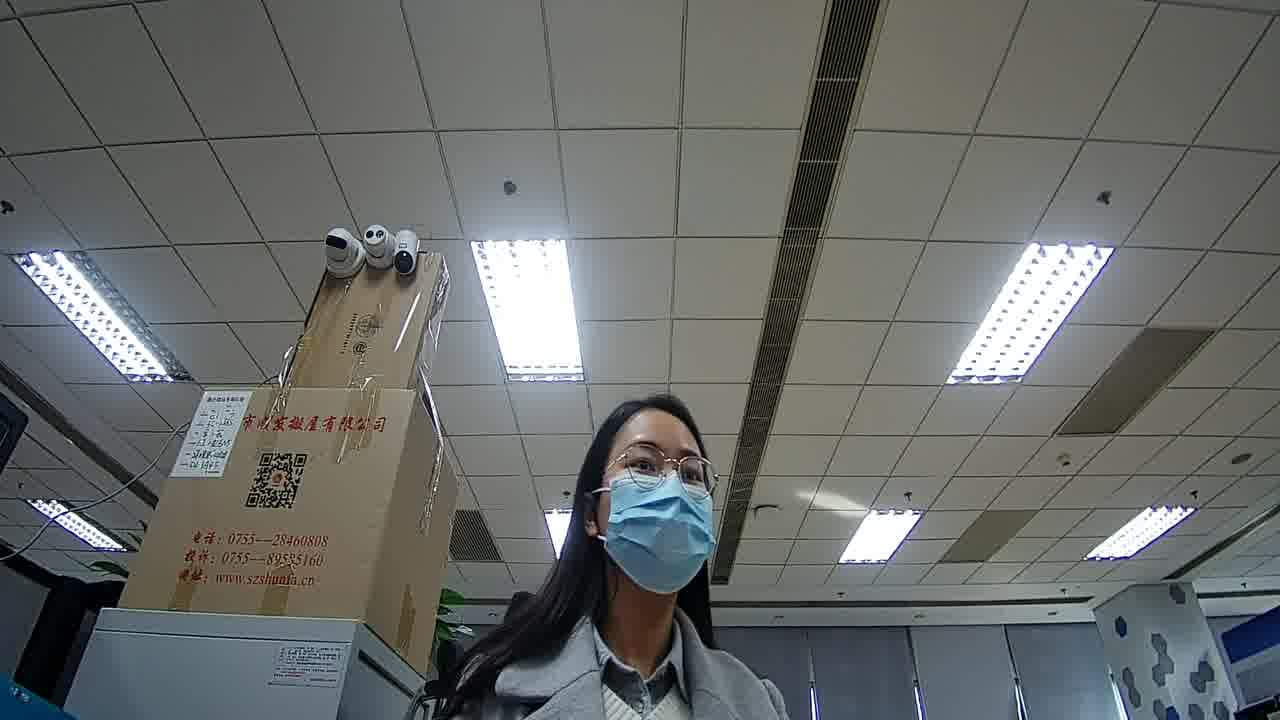face: (586, 410, 731, 596)
mask: (610, 477, 718, 593)
person: (489, 374, 778, 707)
